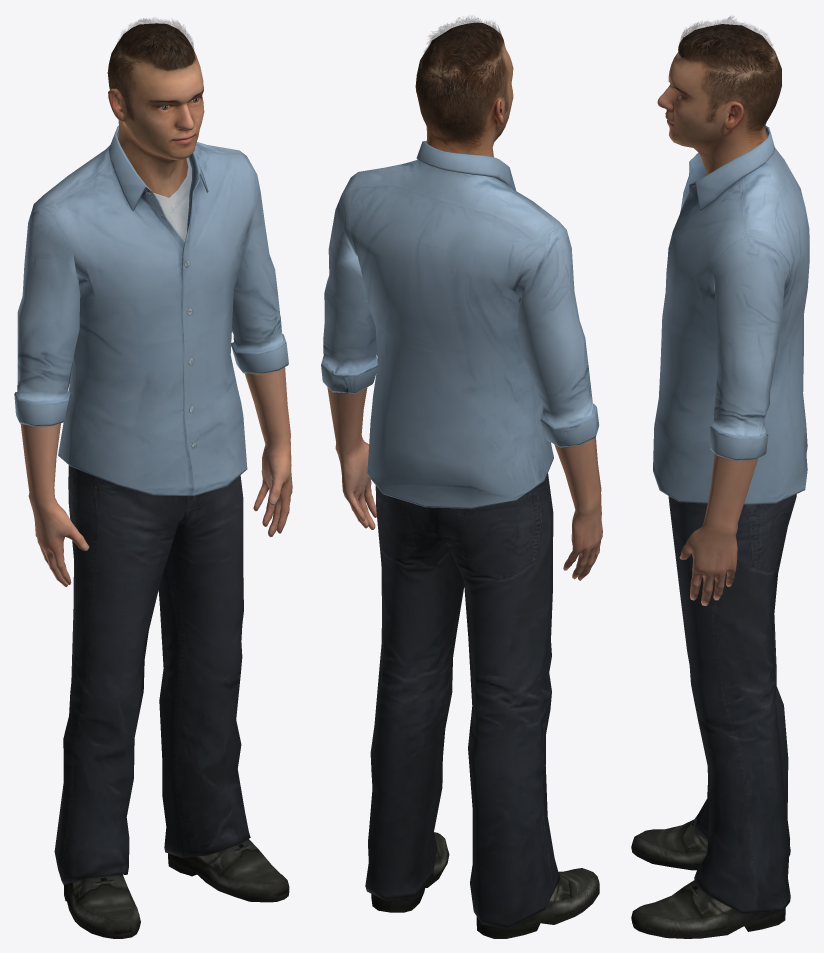
Rendered from male-adult-08.glb.
3 views of the same model, side by side, from view 1: azimuth 30°, elevation 25°; view 2: azimuth 150°, elevation 25°; view 3: azimuth 270°, elevation 25° (orthographic).
Parts seen in each view (by area): view 1: m014_hipoly_81_bones_opacity; view 2: m014_hipoly_81_bones_opacity; view 3: m014_hipoly_81_bones_opacity.
Boxes of the visible parts, <box> form: m014_hipoly_81_bones_opacity: <box>14,18,292,938</box>; m014_hipoly_81_bones_opacity: <box>321,16,602,938</box>; m014_hipoly_81_bones_opacity: <box>631,16,809,938</box>.
Bounding box in the file's own units: 0.5456 × 1.7 × 0.3154.
3 materials, 3 textured.
